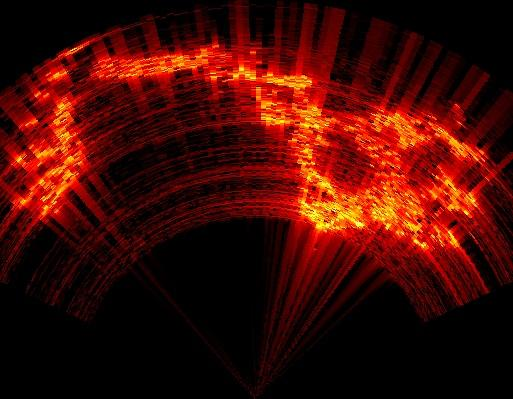shipwreck: (121, 46, 483, 248), (13, 96, 84, 215), (264, 73, 311, 92)
